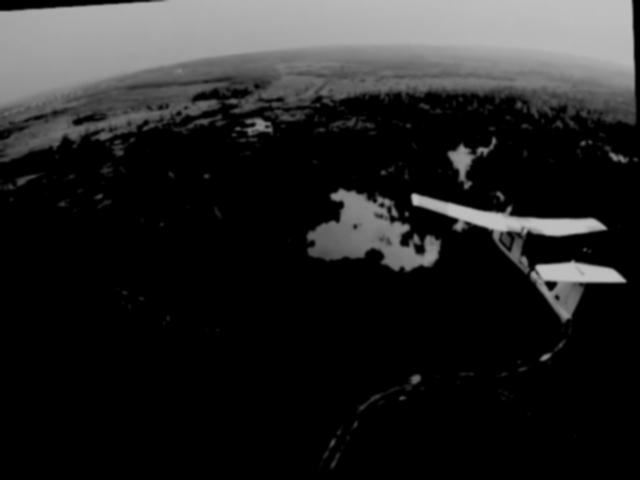hedef: (398, 160, 635, 357)
